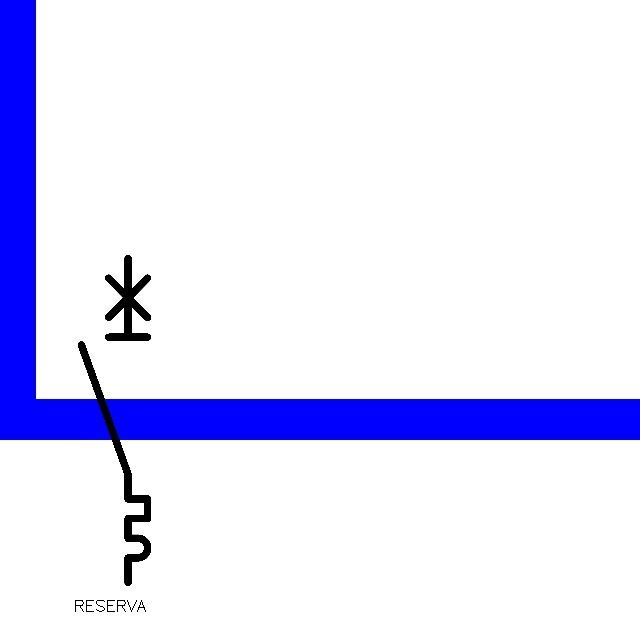interruptor_termomagnetico: (73, 250, 156, 591)
